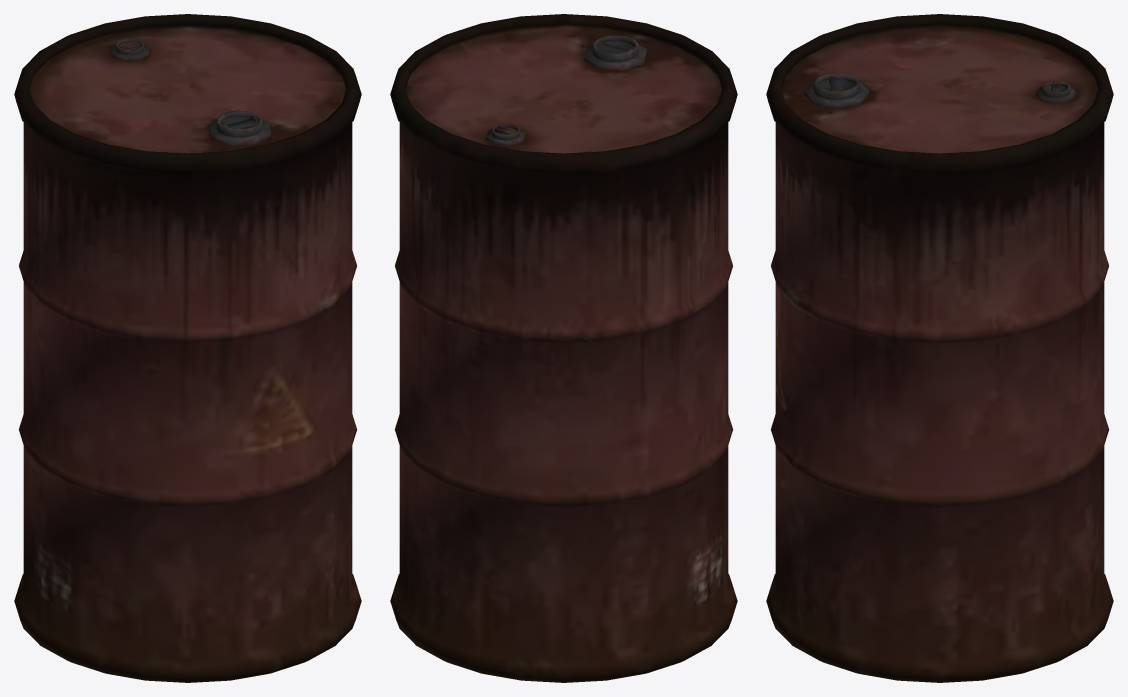
Rendered from oil-drum--2.gltf.
The picture shows the model from 3 angles, left to right: view 1: azimuth 30°, elevation 25°; view 2: azimuth 150°, elevation 25°; view 3: azimuth 270°, elevation 25°; orthographic projection.
Visible parts, largest first — view 1: barrel2, cap.barrel2, cap.base2; view 2: barrel2, cap.barrel2, cap.base2; view 3: barrel2, cap.barrel2, cap.base2.
Part boxes in pixels (x1,y1,x2,y2): barrel2: (14, 14, 361, 682); cap.barrel2: (115, 38, 262, 137); cap.base2: (110, 44, 270, 145); barrel2: (390, 14, 737, 682); cap.barrel2: (491, 35, 638, 140); cap.base2: (486, 44, 646, 145); barrel2: (766, 14, 1113, 682); cap.barrel2: (813, 73, 1070, 99); cap.base2: (804, 80, 1076, 108).
Size of the model in its own units: 0.5338 by 0.9 by 0.5338.
Materials: 3 (3 with a texture image).
